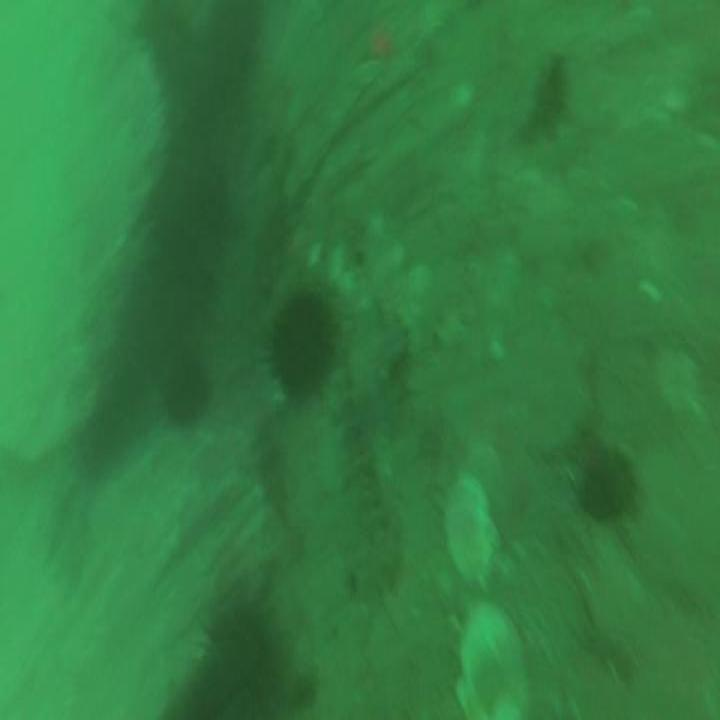echinus: (204, 610, 288, 720), (271, 292, 331, 400), (582, 446, 630, 519), (161, 361, 207, 423)
holothurian: (346, 398, 395, 604)
scallop: (458, 606, 531, 720), (442, 475, 498, 592)
